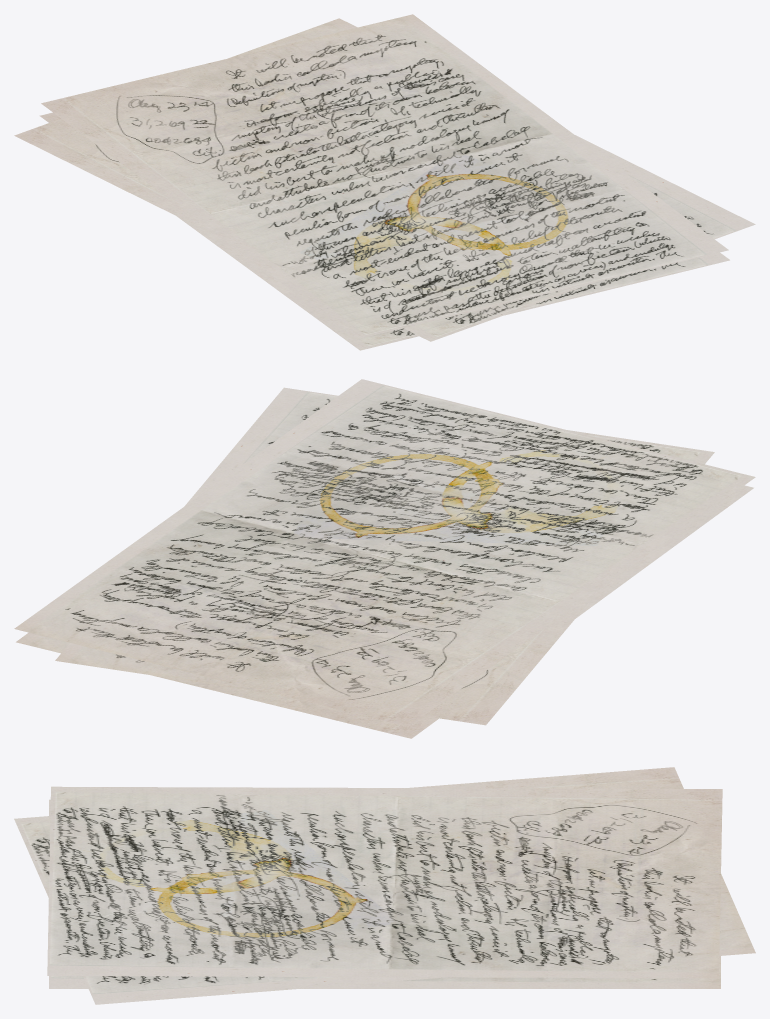
Rendered from Paper.fbx.
The picture shows the model from 3 angles, top to bottom: view 1: azimuth 30°, elevation 25°; view 2: azimuth 150°, elevation 25°; view 3: azimuth 270°, elevation 25°; orthographic projection. The views are drawn at different scales.
Visible parts, largest first — view 1: Paper; view 2: Paper; view 3: Paper.
Part boxes in pixels (<box>): Paper: <box>14,14,755,350</box>; Paper: <box>14,379,755,738</box>; Paper: <box>14,767,755,1004</box>.
Bounding box in the file's own units: 0.3148 × 0.00728 × 0.4152.
Materials: 1 (1 with a texture image).
